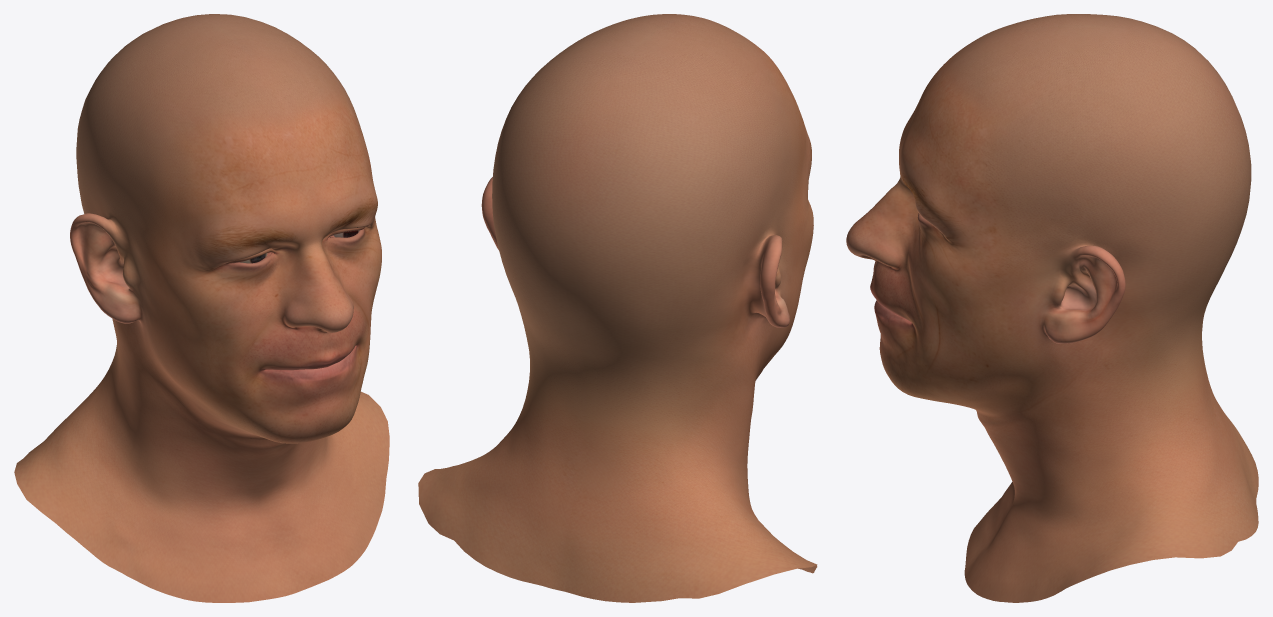
The picture shows the model from 3 angles, left to right: view 1: azimuth 30°, elevation 25°; view 2: azimuth 150°, elevation 25°; view 3: azimuth 270°, elevation 25°; orthographic projection. The views are drawn at different scales.
Parts seen in each view (by area): view 1: Registered head; view 2: Registered head; view 3: Registered head.
Boxes of the visible parts, x1,y1,x2,y2 form: Registered head: [14, 14, 389, 602]; Registered head: [418, 14, 817, 602]; Registered head: [846, 14, 1258, 602].
Size of the model in its own units: 1.31 by 1.85 by 1.28.
3 materials, 3 textured.
